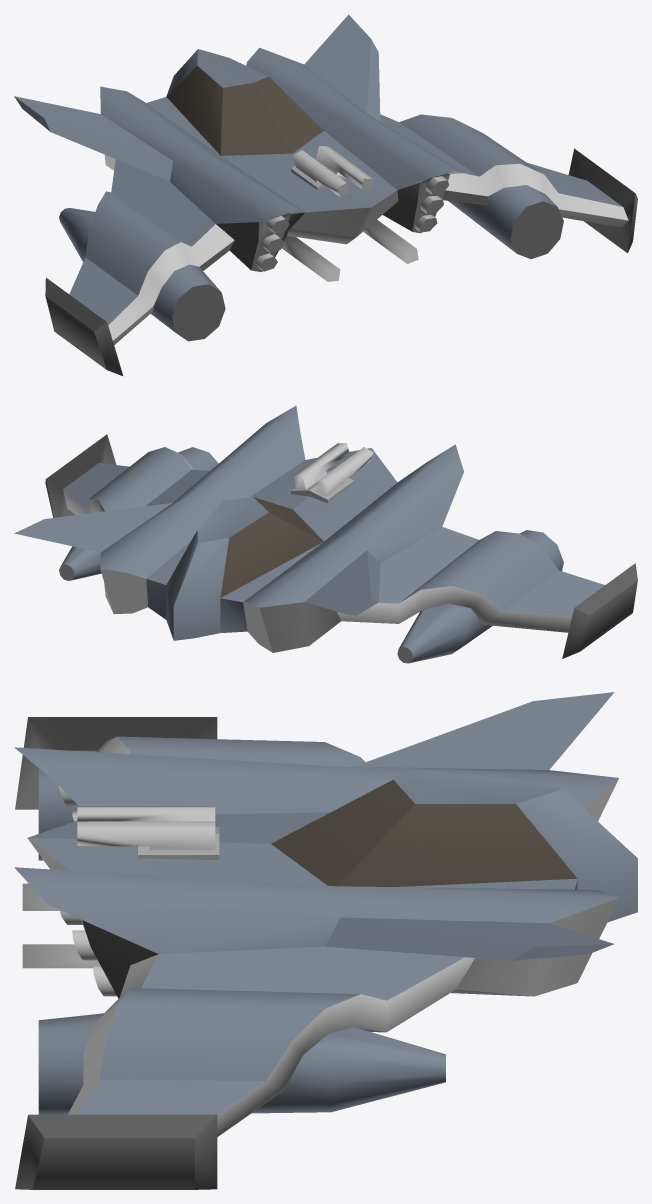
File: esxolus_assault_fighter_LP_model.fbx
The picture shows the model from 3 angles, top to bottom: view 1: azimuth 30°, elevation 25°; view 2: azimuth 150°, elevation 25°; view 3: azimuth 270°, elevation 25°; orthographic projection. The views are drawn at different scales.
Parts seen in each view (by area): view 1: polySurface22; view 2: polySurface22; view 3: polySurface22.
Boxes of the visible parts, x1=… form: polySurface22: x1=14, y1=14, x2=637, y2=375; polySurface22: x1=14, y1=406, x2=637, y2=663; polySurface22: x1=14, y1=692, x2=637, y2=1189.
Size of the model in its own units: 32.12 by 8.04 by 20.68.
